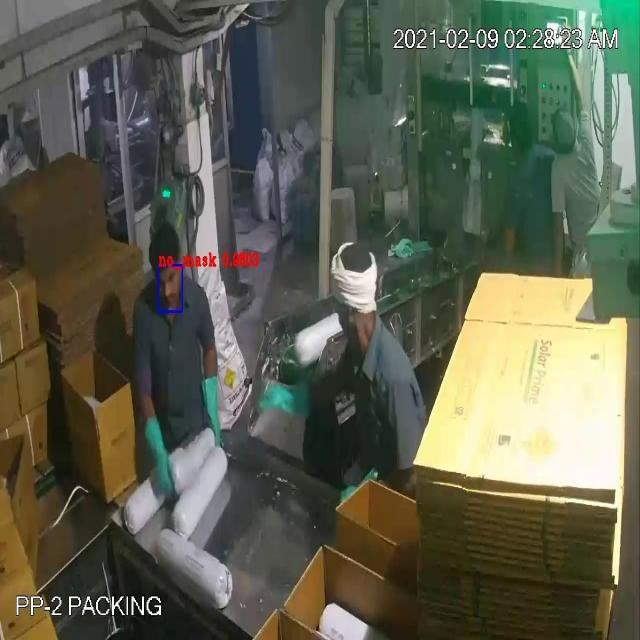Gloves: (24, 66, 575, 457)
